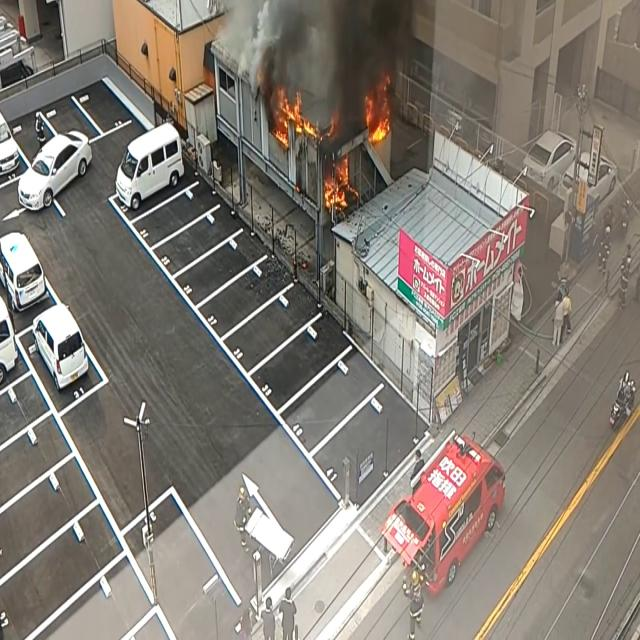Fire: (271, 86, 319, 149), (362, 76, 395, 153), (323, 147, 353, 215)
Smoke: (252, 0, 440, 125)
